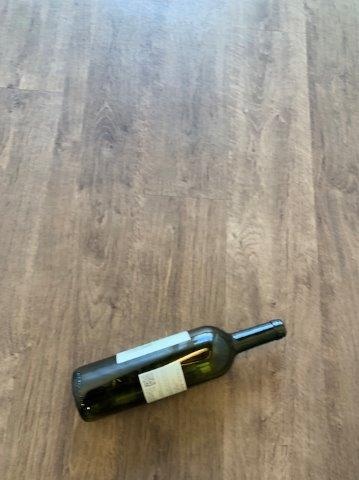botolkaca: (72, 320, 288, 421)
